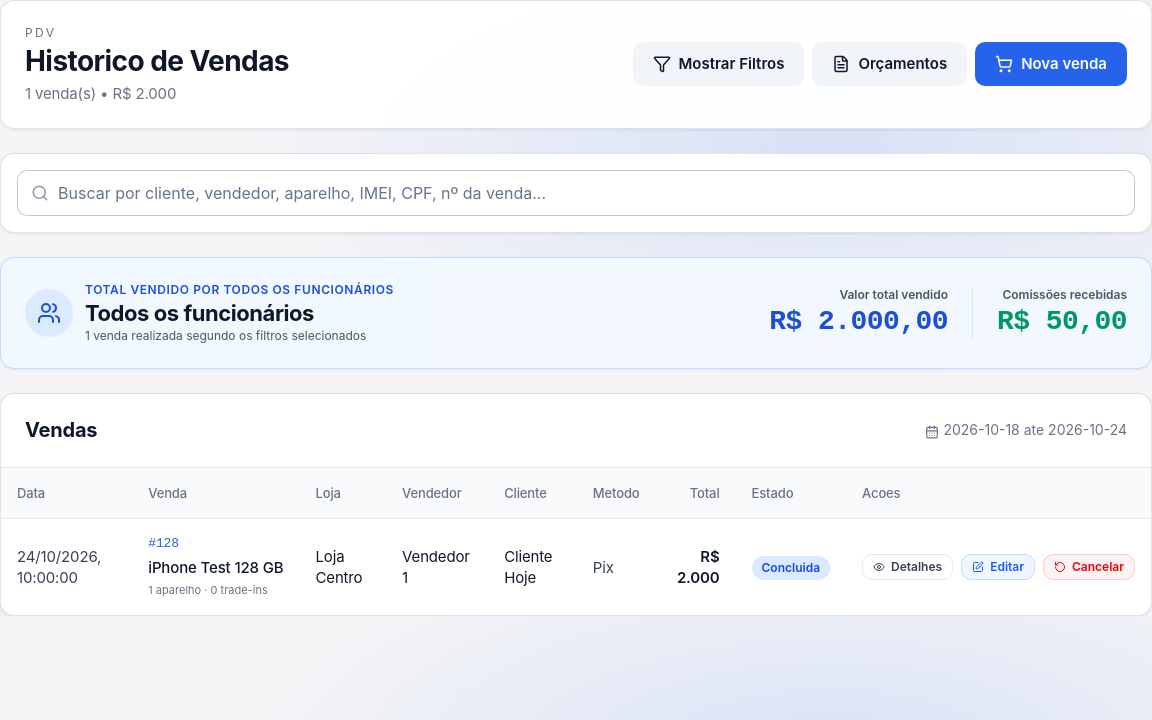
Test case: PDVHistory › opens desktop context actions for an admin sale row
Expected: the text "Cliente Hoje" is shown, [504,547,552,587]
Step 1. Right-click the text "Cliente Hoje" → {"x": 59, "y": 557}, box [1,519,1151,615]
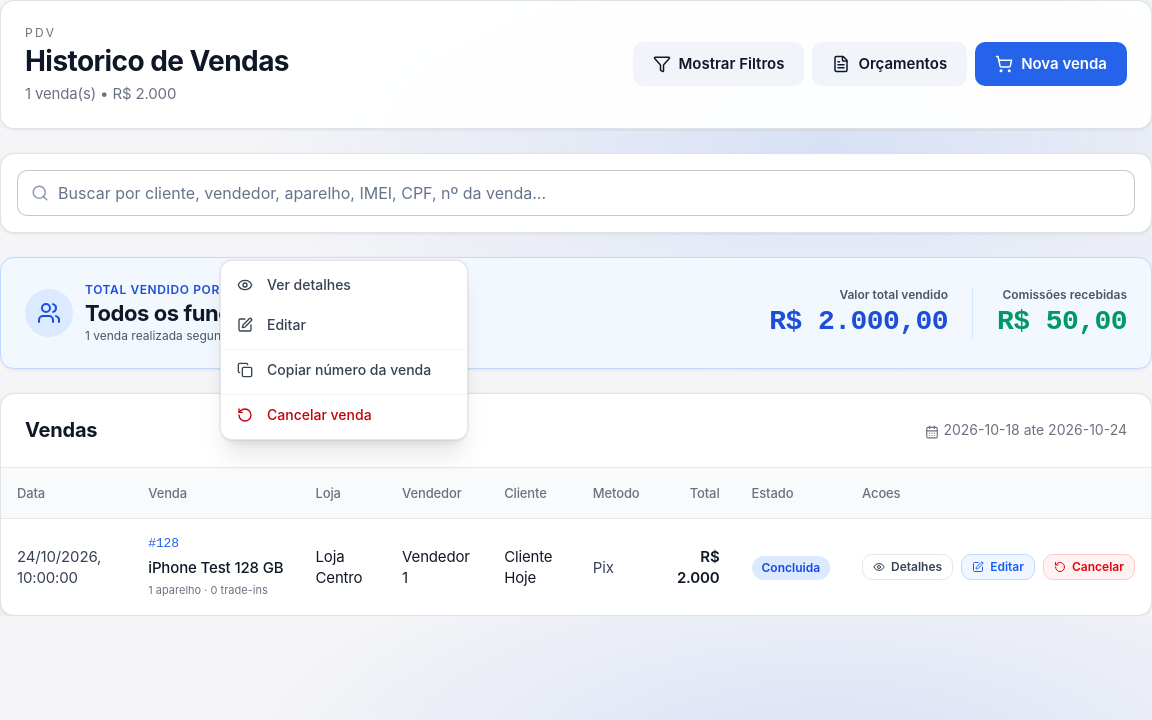
Expected: the menu named "Ações da venda" is shown, [220,260,468,440]
Expected: the menu item "Ver detalhes" is shown, [221,265,467,305]
Expected: the menu item "Editar" is shown, [221,305,467,345]
